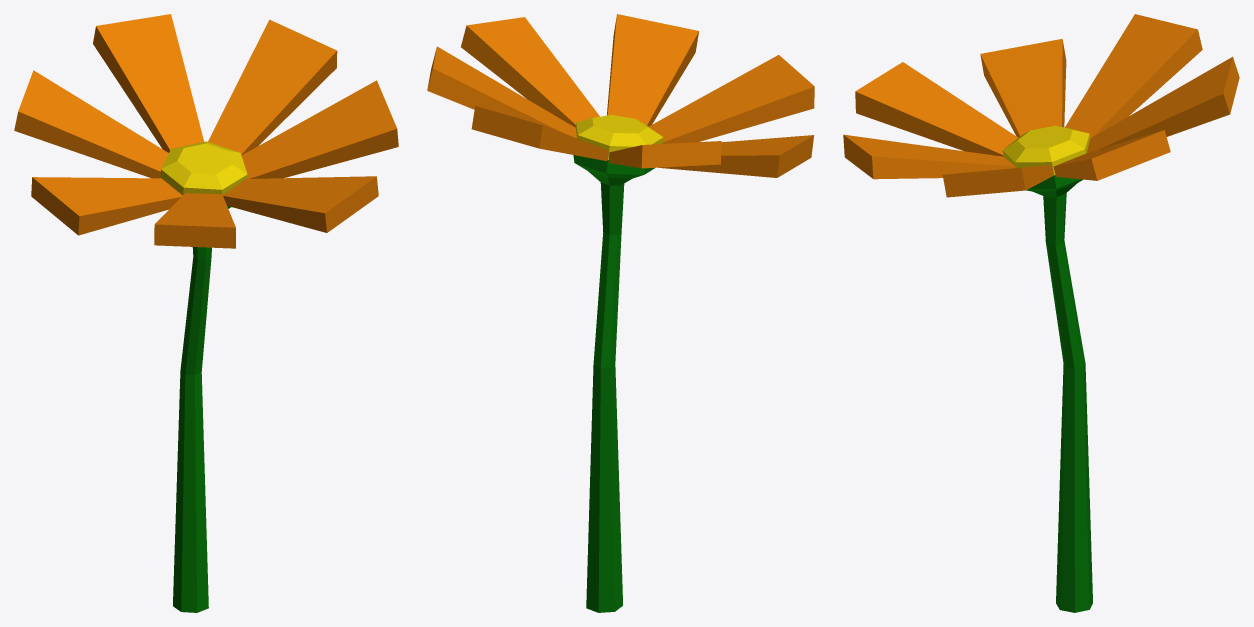
The model's file is FlowerOrange.fbx.
3 views of the same model, side by side, from view 1: azimuth 30°, elevation 25°; view 2: azimuth 150°, elevation 25°; view 3: azimuth 270°, elevation 25° (orthographic). The views are drawn at different scales.
Parts seen in each view (by area): view 1: flower; view 2: flower; view 3: flower.
Part boxes in pixels (x1=…): flower: x1=14, y1=14, x2=398, y2=612; flower: x1=427, y1=14, x2=814, y2=612; flower: x1=843, y1=14, x2=1239, y2=612.
Size of the model in its own units: 17.91 by 27.5 by 18.32.
